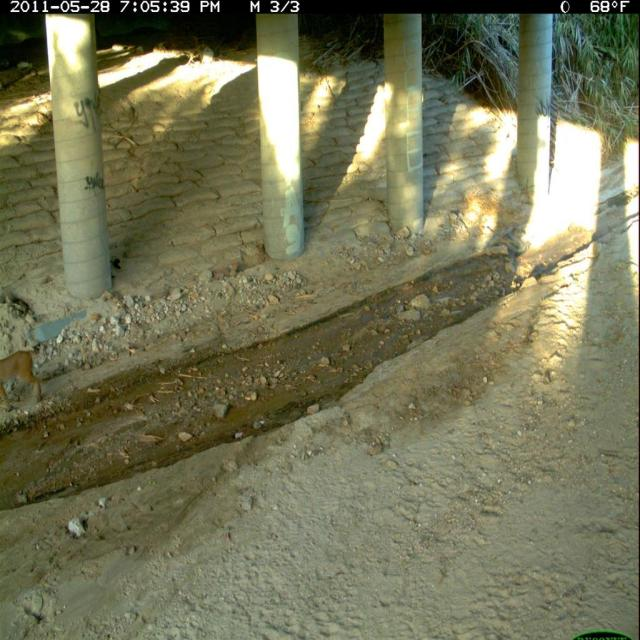bobcat: (1, 344, 45, 414)
